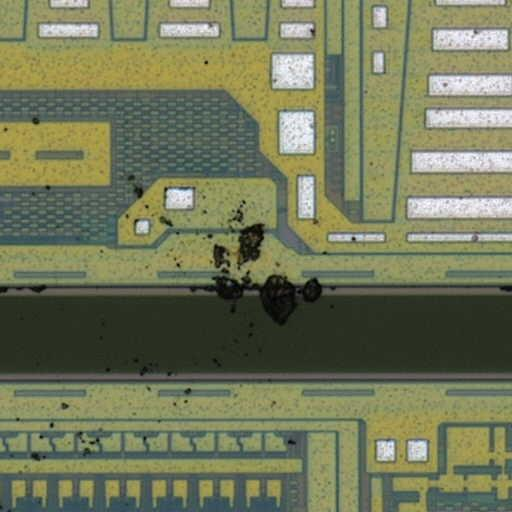PO CONTAMINATION: (1, 17, 512, 465)
